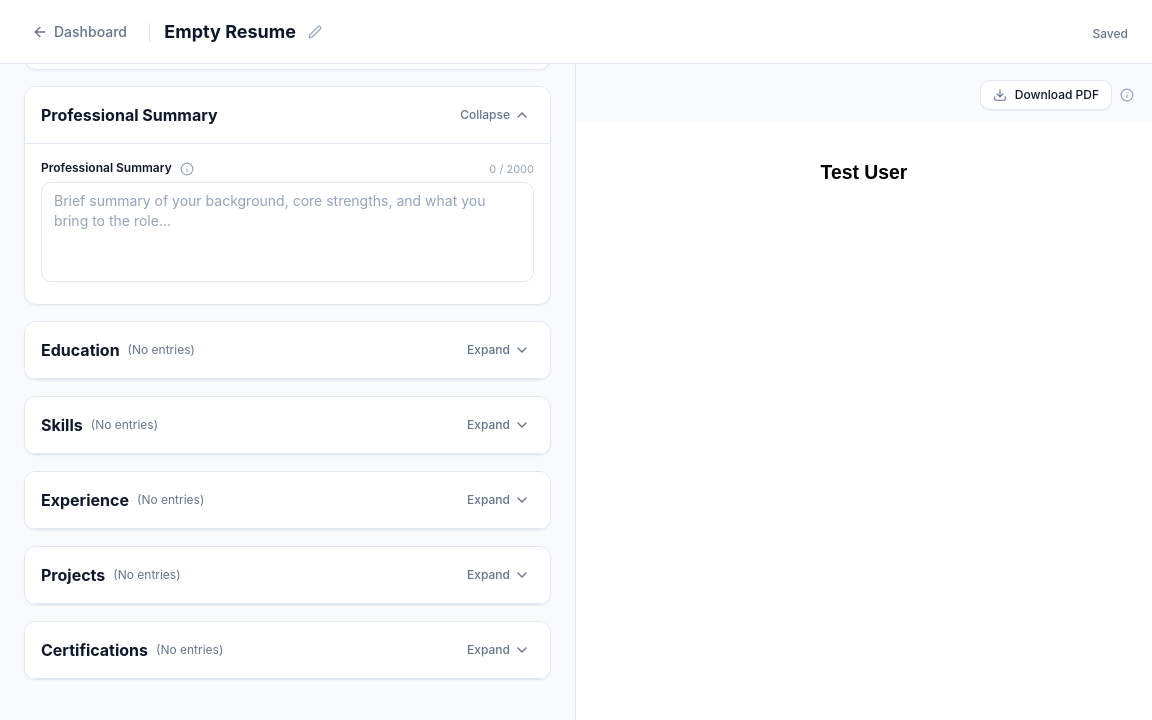
Test case: PreviewPane — two-project fixture › 2b: adding two projects via the form shows both in the preview panel
(page scrolled)
Expected: the heading "Empty Resume" is shown, [164,18,296,46]
Click the button "Expand" in the row of "Projects".
click(499, 575)  # box [463,563,534,587]
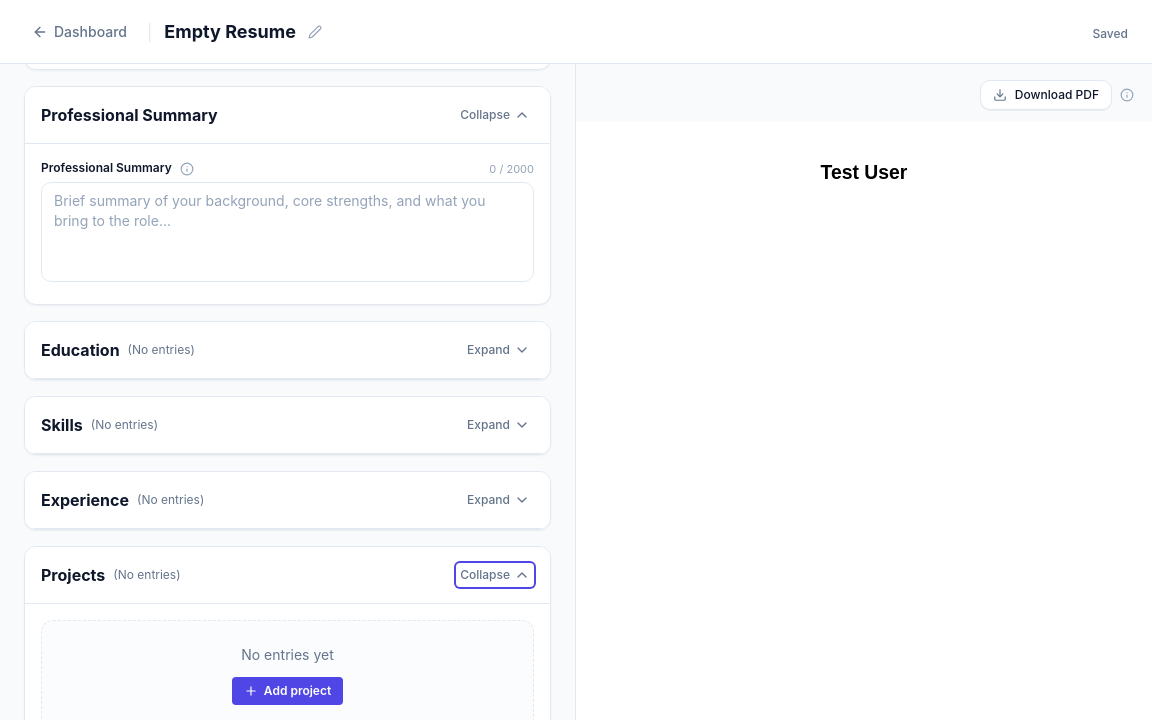
Note: Add first project
Click the button "Add project".
click(287, 691)  # box [232,677,343,705]
(page scrolled)
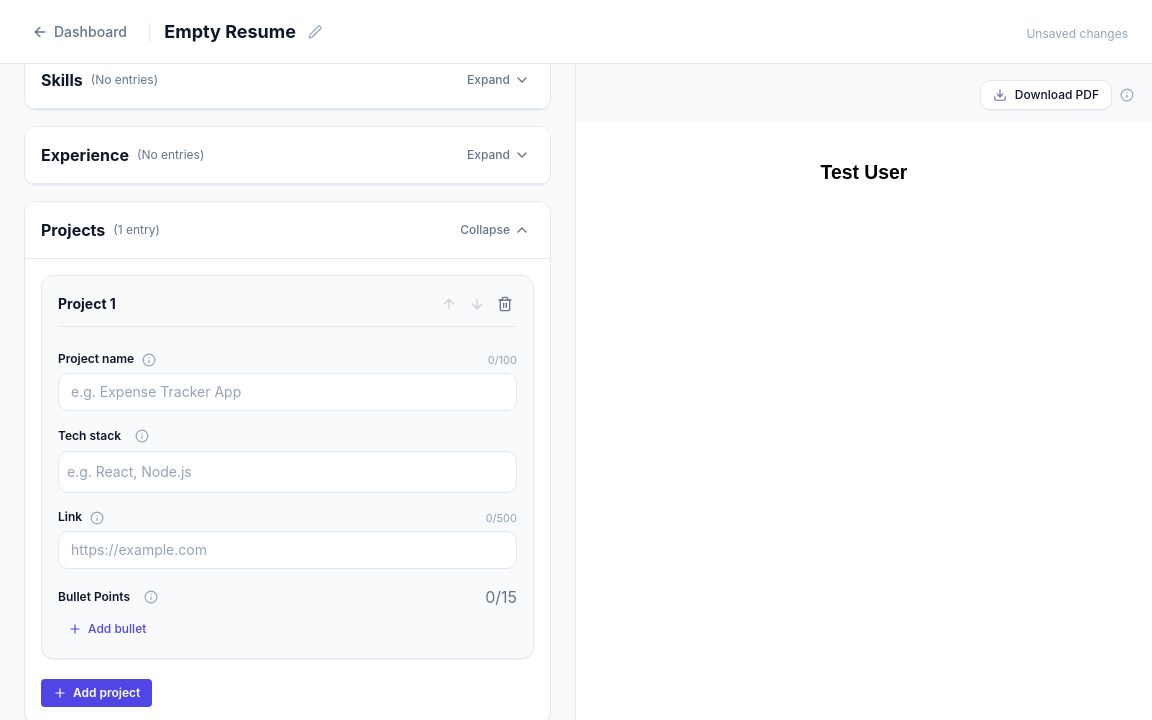
Note: Type name for first project
Type "Alpha Project" into the field with placeholder "e.g. Expense Tracker App".
click(288, 392); type("Alpha Project")  # box [58,373,517,411]
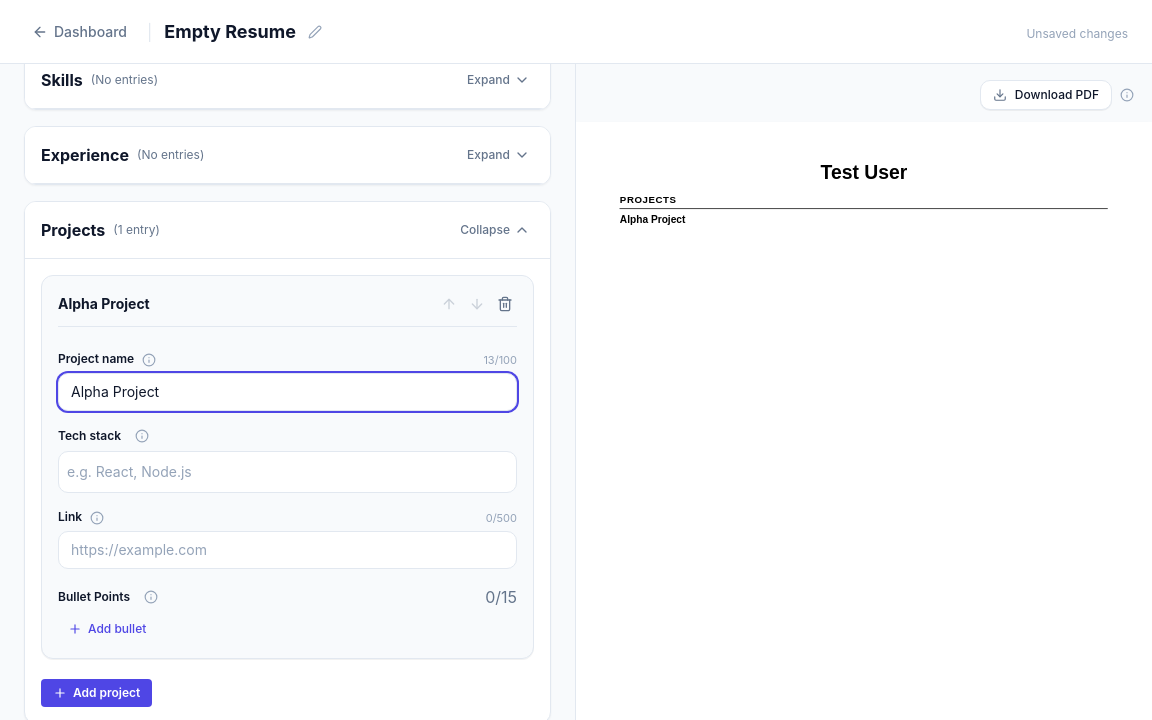
Note: Add second project
Click the button "Add project".
click(97, 693)  # box [41,679,152,707]
(page scrolled)
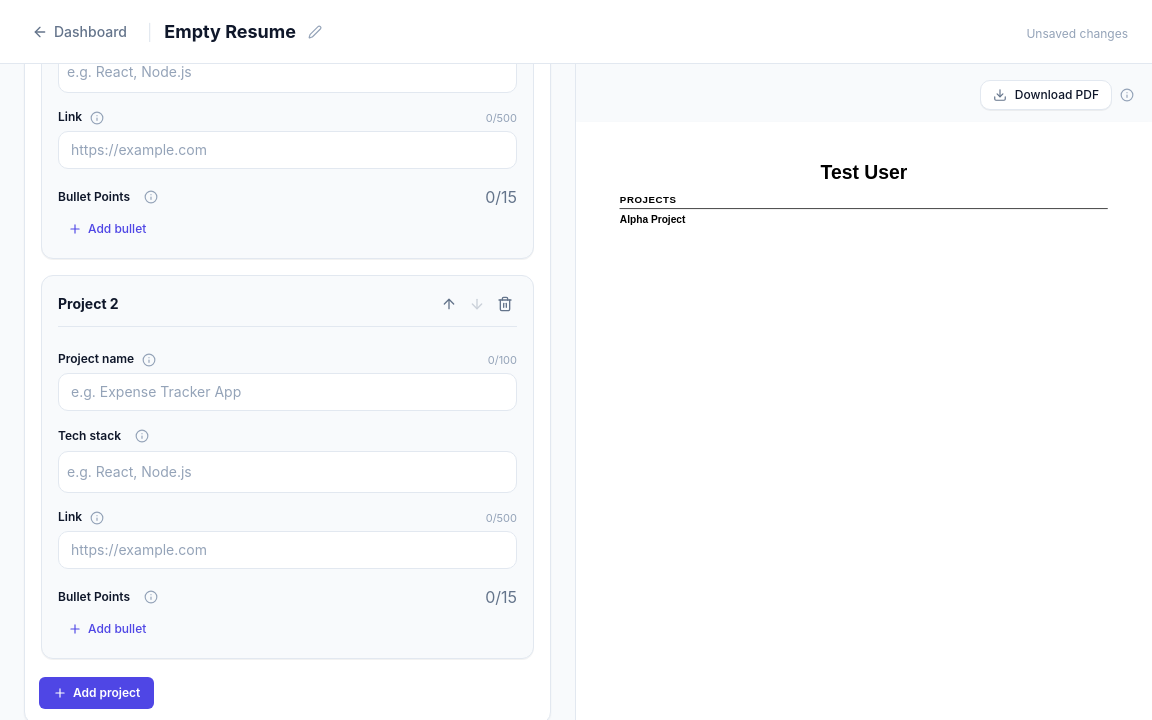
Note: Type name for second project
Type "Beta Project" into the field with placeholder "e.g. Expense Tracker App".
click(288, 392); type("Beta Project")  # box [58,373,517,411]
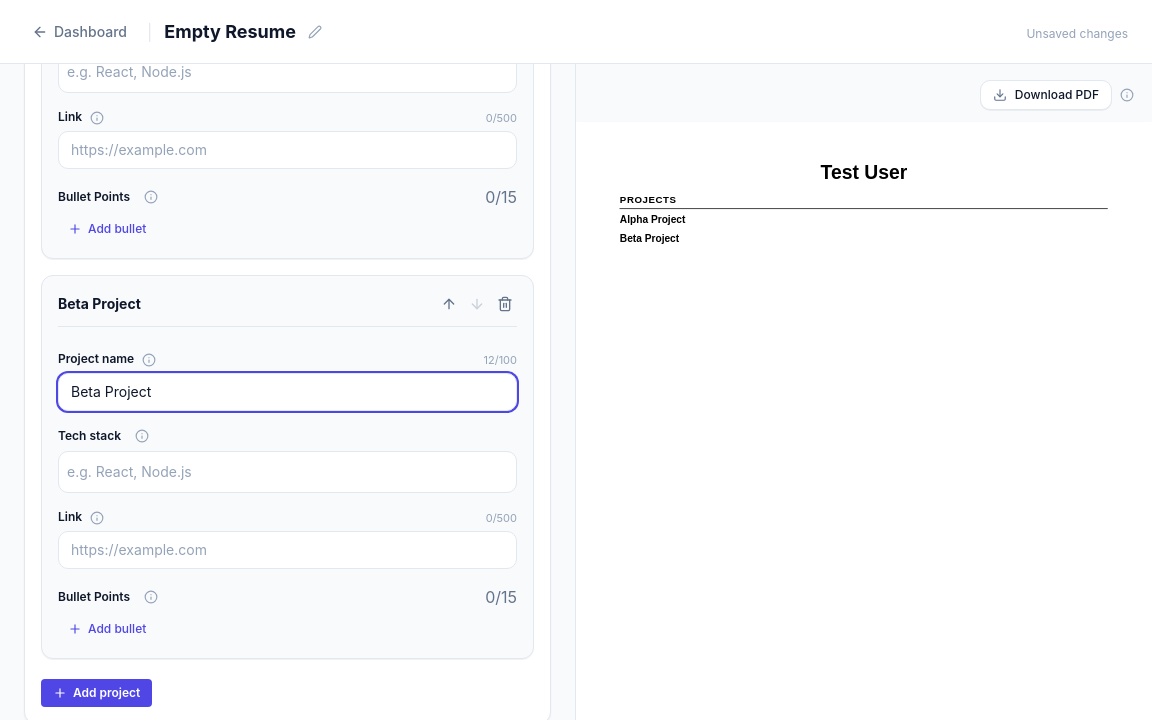
Expected: the text "Alpha Project" is shown, [620,214,685,225]
Expected: the text "Beta Project" below "Alpha Project" is shown, [620,233,679,245]
